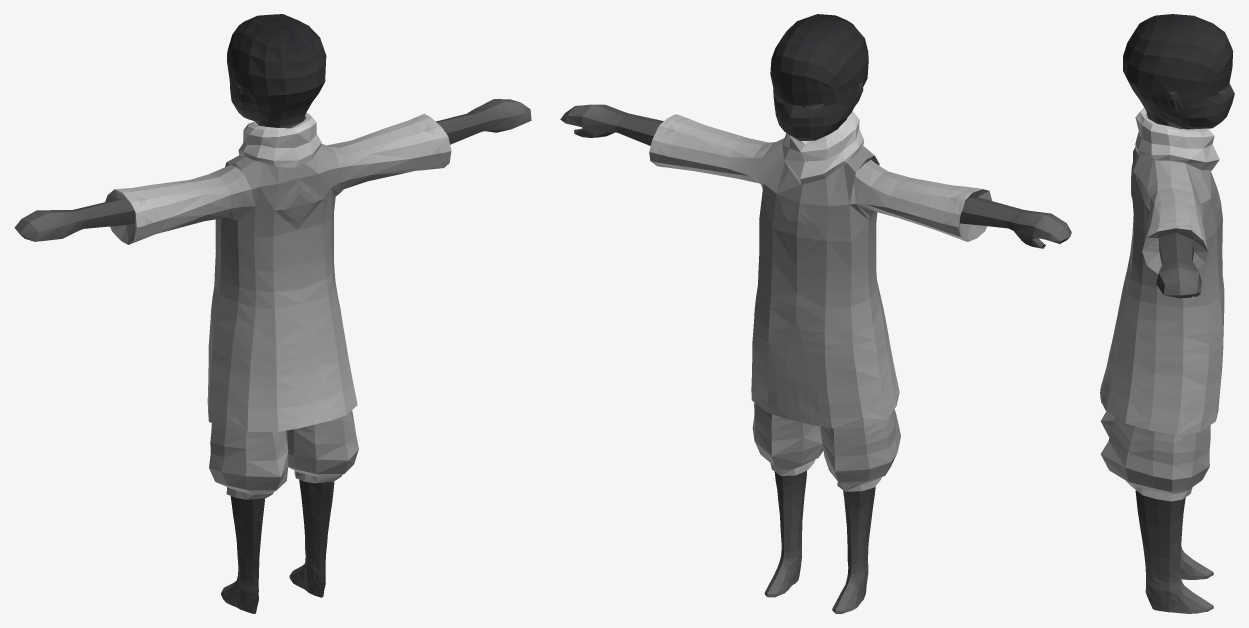
The model's file is CharSkyKid_Body_WarriorPants.glb.
The picture shows the model from 3 angles, left to right: view 1: azimuth 30°, elevation 25°; view 2: azimuth 150°, elevation 25°; view 3: azimuth 270°, elevation 25°; orthographic projection.
Parts seen in each view (by area): view 1: CharSkyKid_Body_WarriorPants; view 2: CharSkyKid_Body_WarriorPants; view 3: CharSkyKid_Body_WarriorPants.
Boxes of the visible parts, x1=… form: CharSkyKid_Body_WarriorPants: x1=14, y1=14, x2=531, y2=613; CharSkyKid_Body_WarriorPants: x1=560, y1=14, x2=1071, y2=613; CharSkyKid_Body_WarriorPants: x1=1100, y1=14, x2=1234, y2=613.
Size of the model in its own units: 13.83 by 14.94 by 3.18.
Materials: 1 (1 with a texture image).
